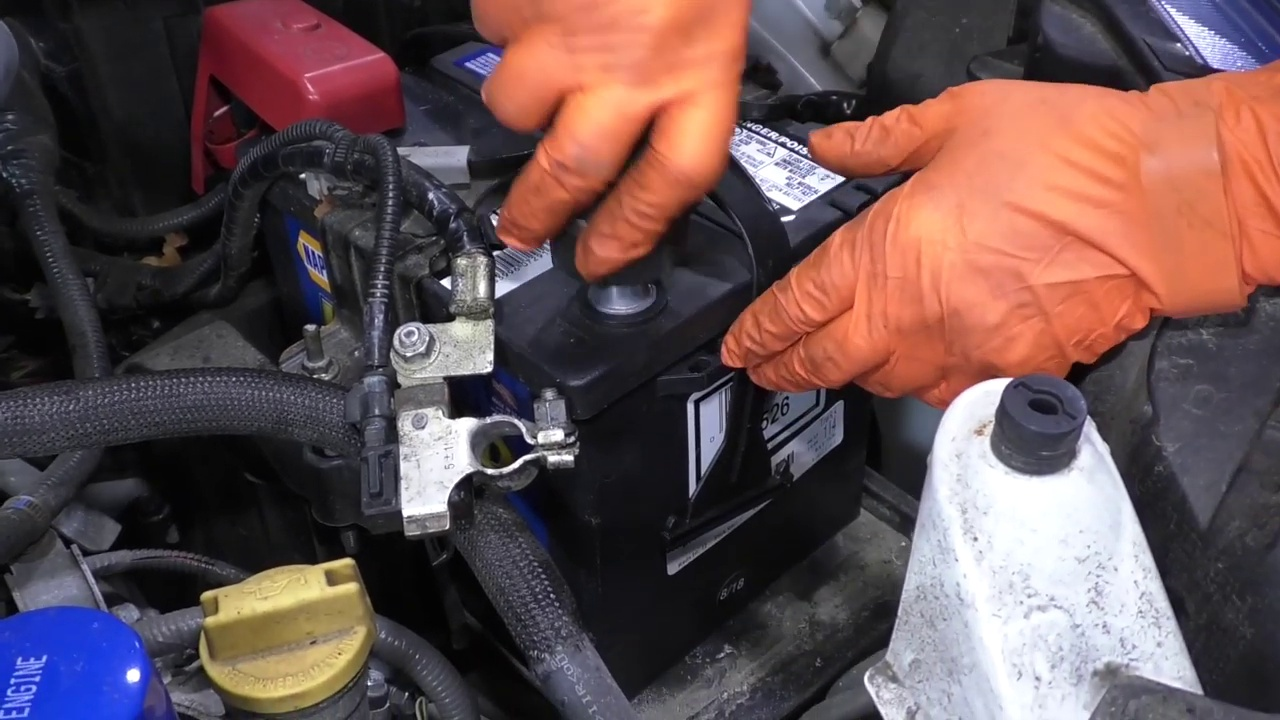battery: (241, 22, 910, 390)
neg_touched: (525, 137, 708, 359)
pos_connected: (172, 1, 431, 218)
